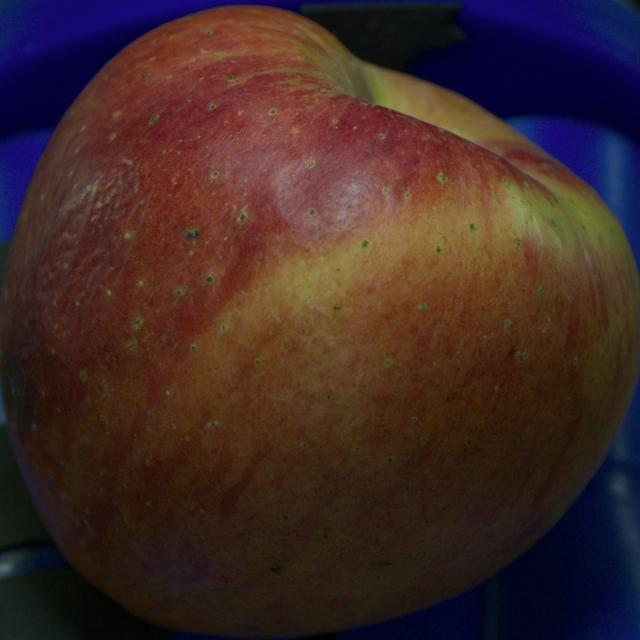apple: (0, 6, 639, 638)
pest: (186, 229, 197, 240)
